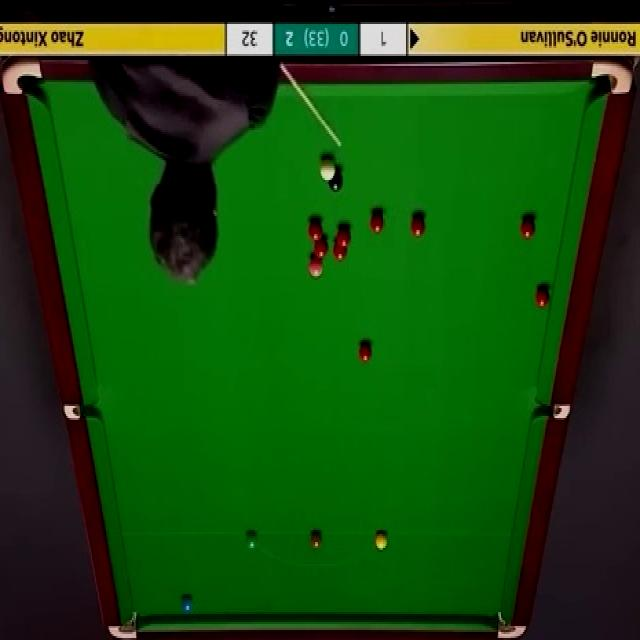black-ball: (328, 168, 342, 190)
blue-ball: (178, 596, 192, 613)
brown-ball: (309, 530, 322, 550)
green-ball: (245, 529, 259, 550)
pink-ball: (308, 256, 324, 281)
red-ball: (409, 212, 427, 238), (369, 208, 385, 235), (533, 284, 550, 308), (314, 238, 330, 260), (521, 215, 535, 240), (308, 220, 323, 243), (358, 340, 373, 362), (333, 239, 347, 262), (337, 226, 351, 247)
white-ball: (319, 153, 336, 183)
yellow-ball: (374, 530, 389, 551)
